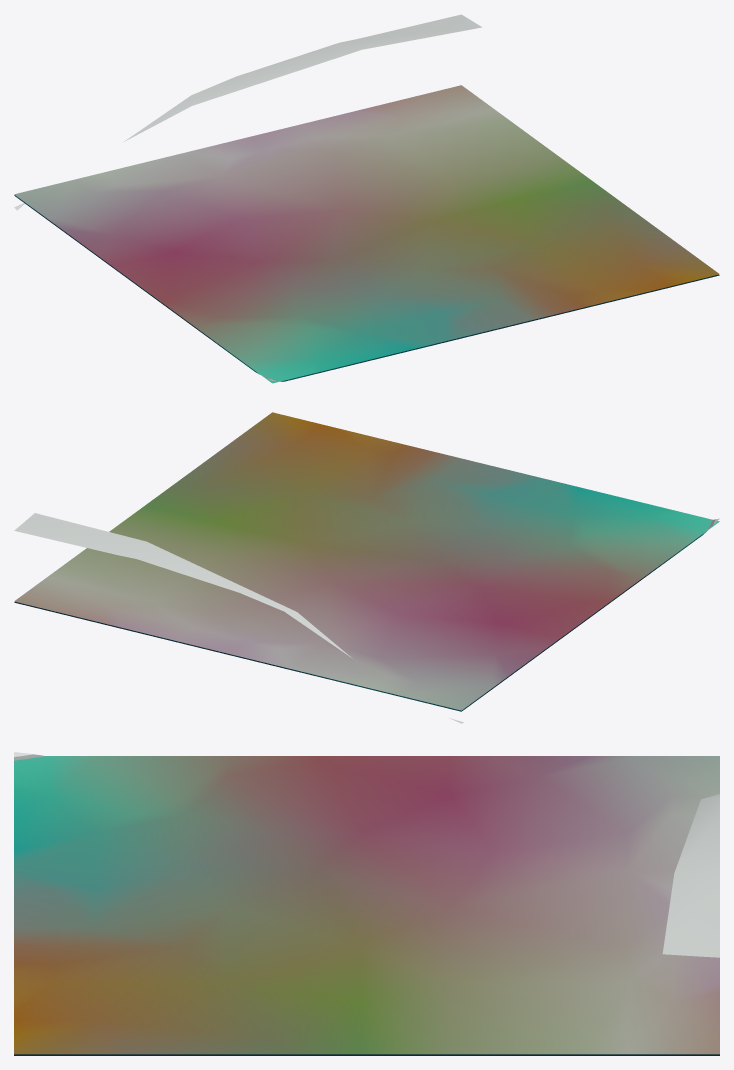
3 renders of one model, top to bottom at view 1: azimuth 30°, elevation 25°; view 2: azimuth 150°, elevation 25°; view 3: azimuth 270°, elevation 25°, orthographic. The views are drawn at different scales.
Visible parts, largest first — view 1: G:\FFXIV-MapTools\exports\r2f1\bg\ex1\01_roc_r2\fld\r2f1\bgp (×3); view 2: G:\FFXIV-MapTools\exports\r2f1\bg\ex1\01_roc_r2\fld\r2f1\bgp (×3); view 3: G:\FFXIV-MapTools\exports\r2f1\bg\ex1\01_roc_r2\fld\r2f1\bgp (×3).
Boxes of the visible parts, x1,y1,x2,y2 form: G:\FFXIV-MapTools\exports\r2f1\bg\ex1\01_roc_r2\fld\r2f1\bgp (×3): (14,14,719,383); G:\FFXIV-MapTools\exports\r2f1\bg\ex1\01_roc_r2\fld\r2f1\bgp (×3): (14,412,719,723); G:\FFXIV-MapTools\exports\r2f1\bg\ex1\01_roc_r2\fld\r2f1\bgp (×3): (14,752,719,1055).
Size of the model in its own units: 128 by 24.62 by 128.
